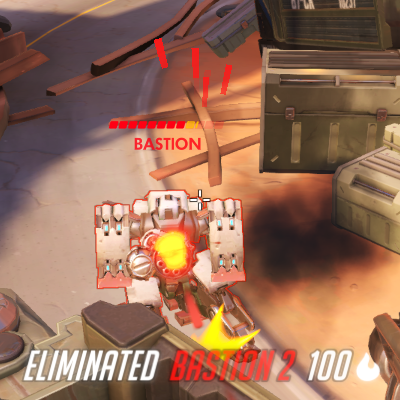hpbar: (108, 120, 226, 130)
